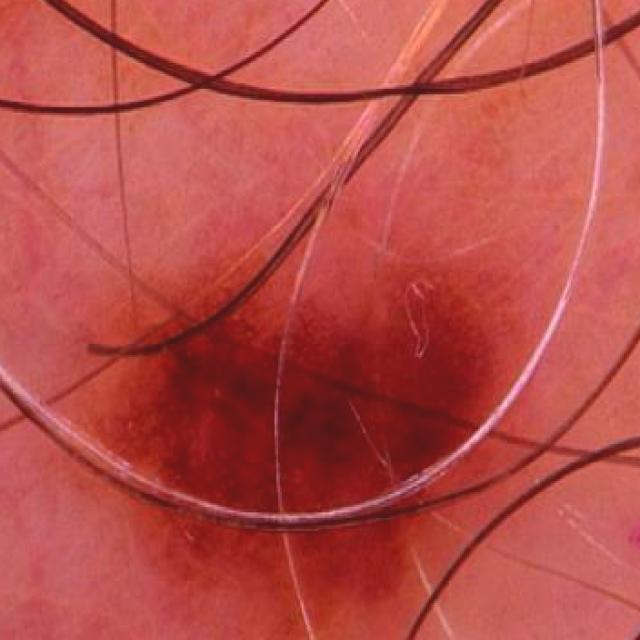NV: (47, 194, 521, 618)
